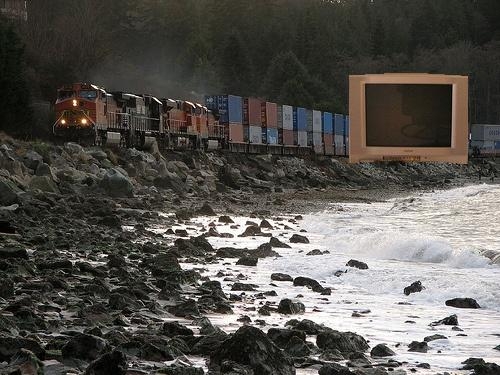tampered: (350, 74, 468, 164)
